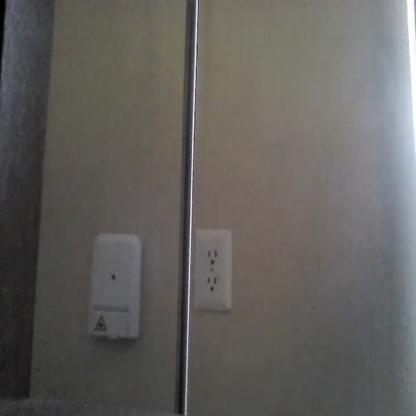OUTLET: (194, 230, 232, 310)
